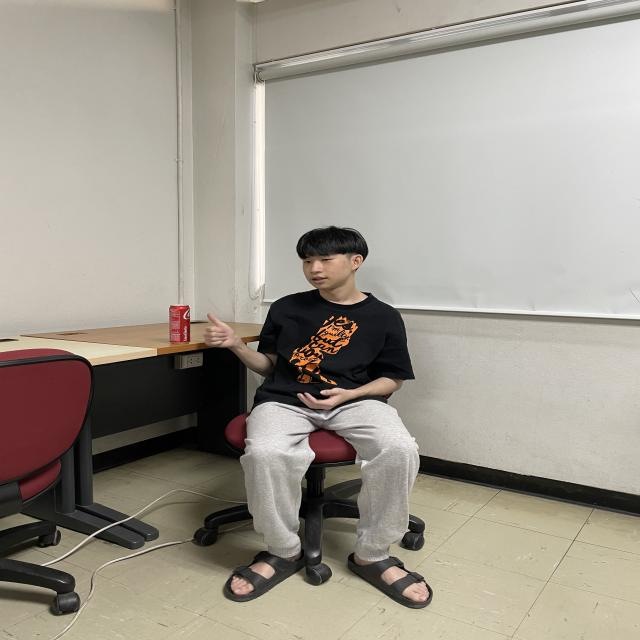can: (168, 304, 190, 345)
